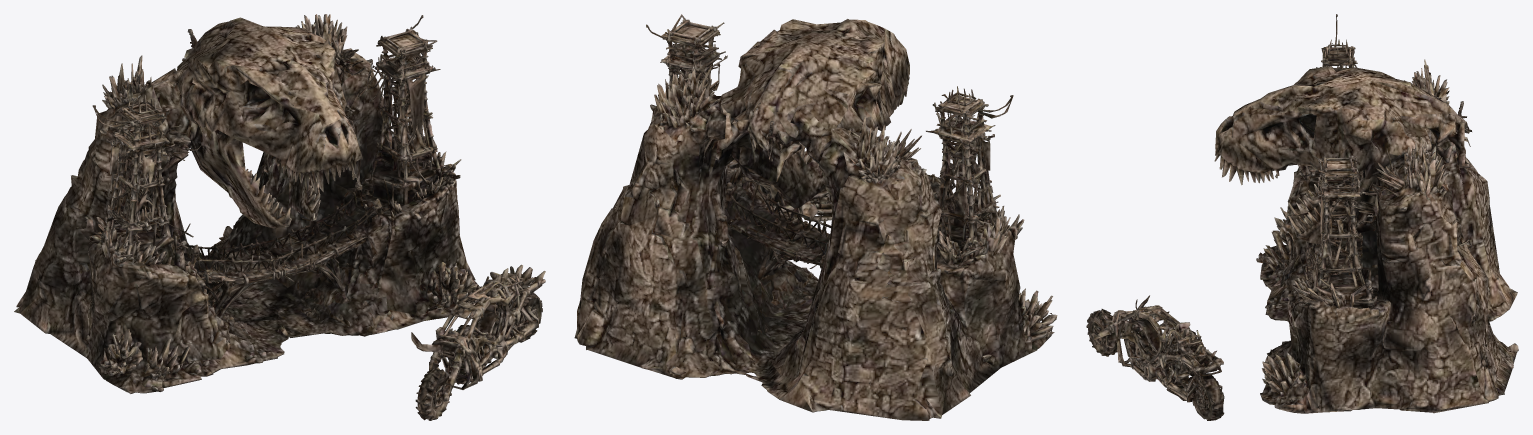
Rendered from skull-gate-lod1.glb.
3 views of the same model, side by side, from view 1: azimuth 30°, elevation 25°; view 2: azimuth 150°, elevation 25°; view 3: azimuth 270°, elevation 25° (orthographic). The views are drawn at different scales.
Parts seen in each view (by area): view 1: Mesh_0; view 2: Mesh_0; view 3: Mesh_0.
Boxes of the visible parts, x1,y1,x2,y2 form: Mesh_0: [14, 14, 545, 420]; Mesh_0: [574, 14, 1057, 420]; Mesh_0: [1086, 14, 1518, 420].
Bounding box in the file's own units: 186670 × 130040 × 193676.
Materials: 1 (1 with a texture image).
